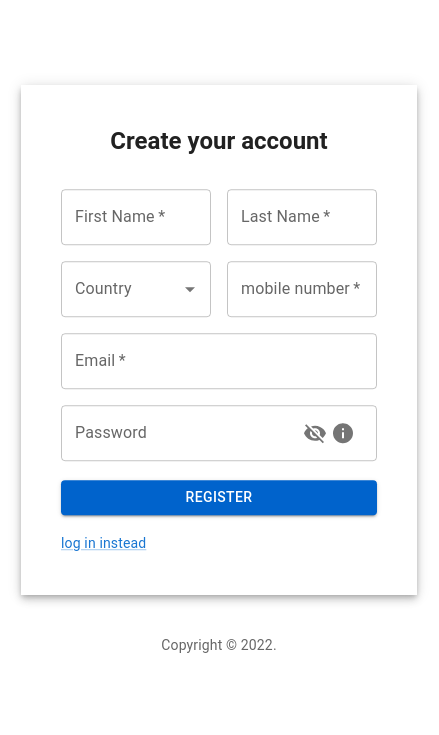
it: Testing account registration › indicates that user with mobile and email exists
Click the button "Register".
click(219, 498)  # box [61,480,377,515]
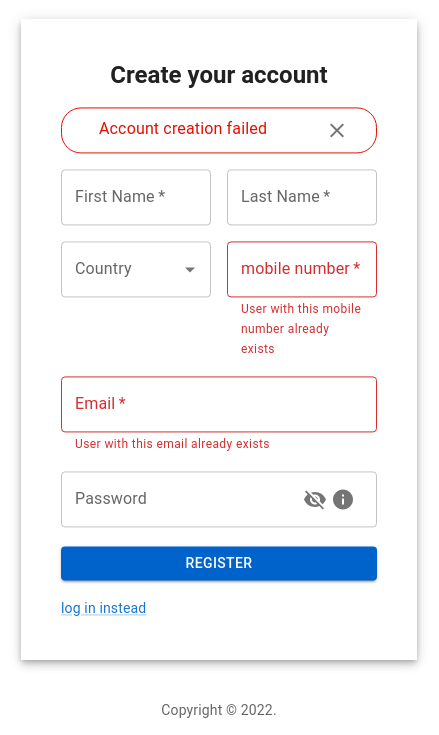
Expected: the text "User with this mobile number already exists" is shown, [241,300,363,360]
Expected: the text "User with this email already exists" is shown, [75,437,270,451]
